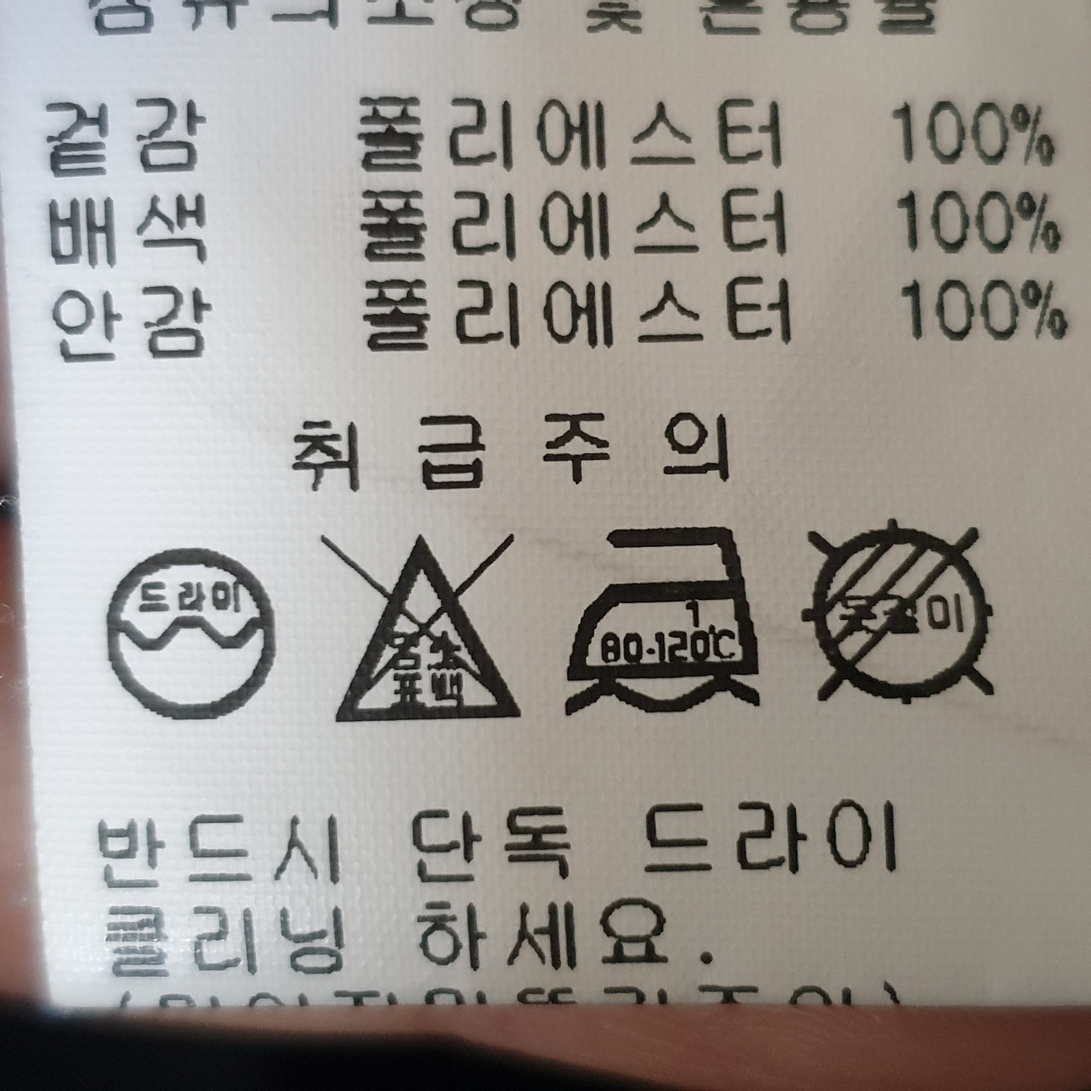KR_dry_clean: (96, 527, 286, 727)
KR_hang_dry_in_shade: (787, 509, 1012, 719)
KR_iron_low_temp_with_cloth: (542, 511, 773, 726)
KR_no_chlorine_bleach: (305, 523, 532, 730)
